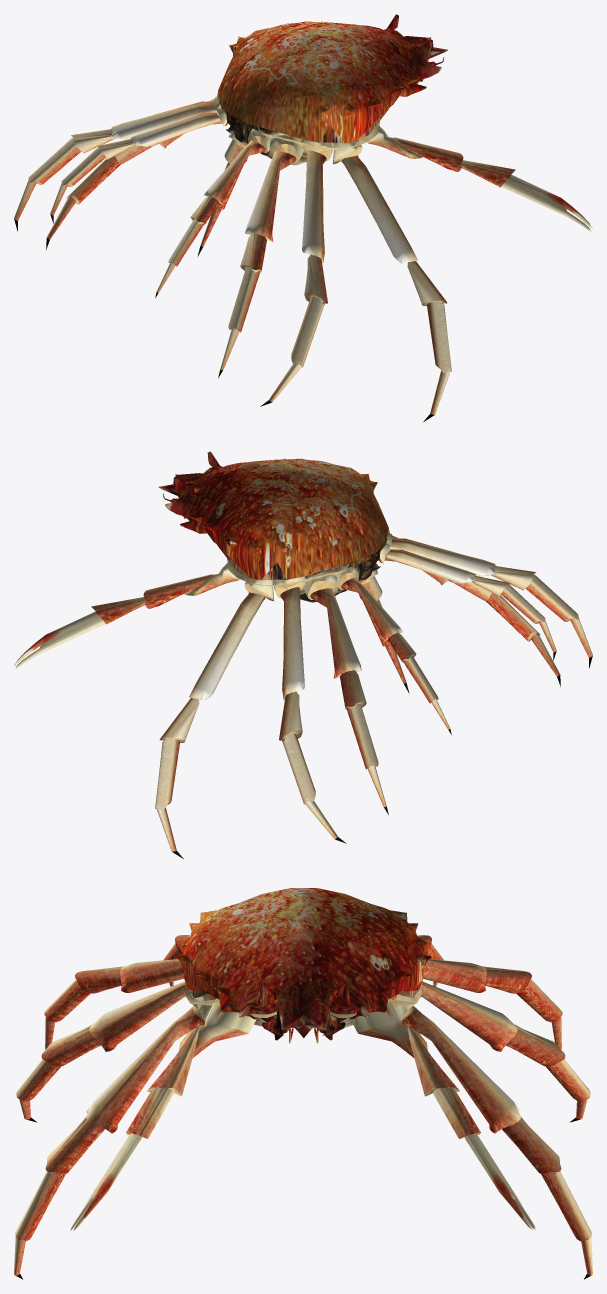
Rendered from CRAB_L.obj.
3 views of the same model, one above another, from view 1: azimuth 30°, elevation 25°; view 2: azimuth 150°, elevation 25°; view 3: azimuth 270°, elevation 25° (orthographic). The views are drawn at different scales.
Parts seen in each view (by area): view 1: CRBmain_0, crable02_9, crable03_10, crable04_11, crable01_8, crable08_17, crable07_18, crable05_12, crable10_16, crable09_15, CRBMA02_6; view 2: CRBmain_0, crable09_15, crable10_16, crable08_17, crable06_14, crable04_11, crable05_12, crable07_18, crable03_10, crable02_9, CRBMA02_6; view 3: CRBmain_0, crable02_9, crable09_15, crable01_8, crable06_14, crable03_10, crable10_16, crable04_11, crable08_17.
Part boxes in pixels (<box>): CRBmain_0: <box>218,14,447,143</box>; crable02_9: <box>333,140,451,421</box>; crable03_10: <box>260,139,334,406</box>; crable04_11: <box>218,135,303,378</box>; crable01_8: <box>367,126,592,231</box>; crable08_17: <box>14,96,219,231</box>; crable07_18: <box>50,105,227,223</box>; crable05_12: <box>155,128,270,297</box>; crable10_16: <box>46,98,214,249</box>; crable09_15: <box>197,133,247,256</box>; CRBMA02_6: <box>219,101,334,165</box>; CRBmain_0: <box>158,451,388,580</box>; crable09_15: <box>155,577,273,858</box>; crable10_16: <box>272,576,346,843</box>; crable08_17: <box>303,572,388,815</box>; crable06_14: <box>14,563,239,668</box>; crable04_11: <box>386,533,592,668</box>; crable05_12: <box>379,542,556,660</box>; crable07_18: <box>336,565,451,734</box>; crable03_10: <box>392,535,560,686</box>; crable02_9: <box>359,569,409,693</box>; CRBMA02_6: <box>272,538,387,602</box>; CRBmain_0: <box>176,888,431,1040</box>; crable02_9: <box>14,994,216,1279</box>; crable09_15: <box>390,994,592,1279</box>; crable01_8: <box>70,998,256,1230</box>; crable06_14: <box>350,998,536,1230</box>; crable03_10: <box>16,981,186,1122</box>; crable10_16: <box>420,981,590,1122</box>; crable04_11: <box>44,959,184,1049</box>; crable08_17: <box>423,959,562,1049</box>.
Size of the model in its own units: 294 by 218 by 298.
